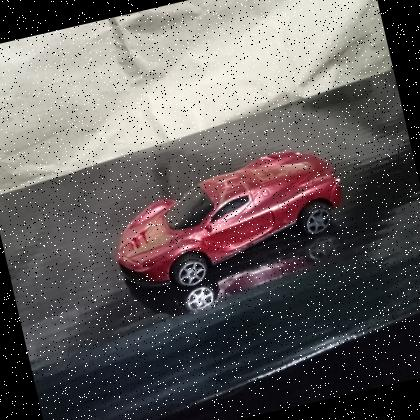Car: (91, 132, 362, 309)
